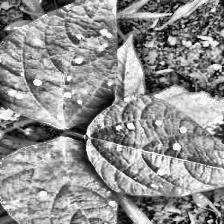Bean Rust: (0, 0, 129, 131), (86, 93, 224, 198), (0, 135, 130, 224)
